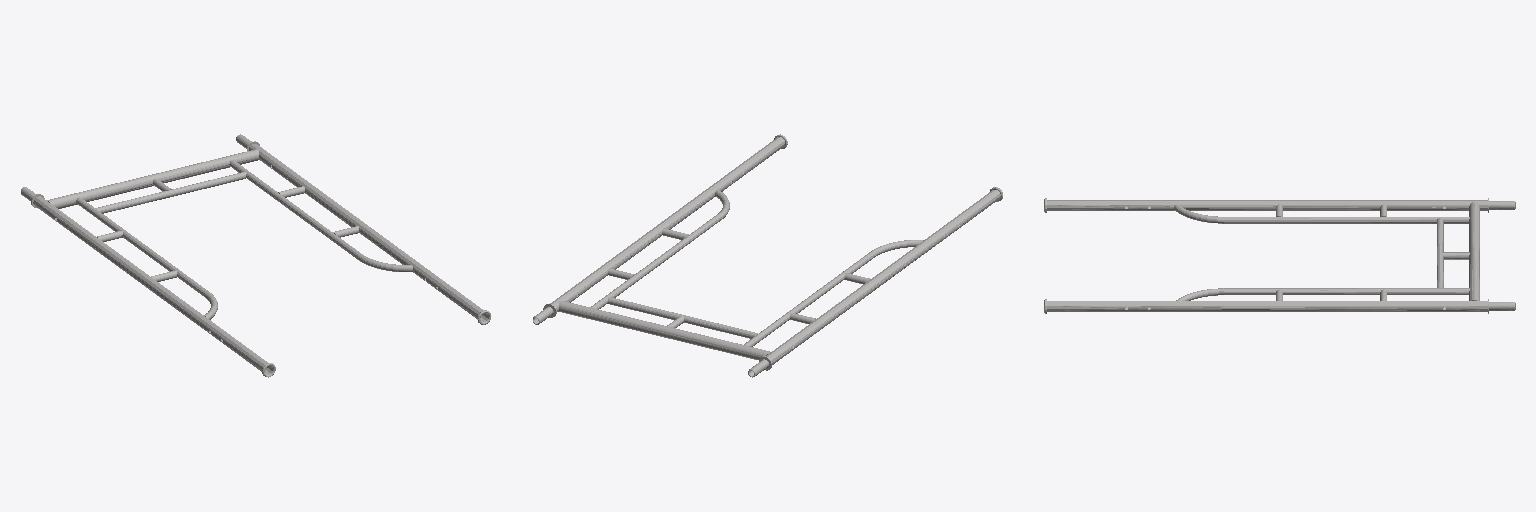
robot.urdf — H-frame_scaffolding_urdf_mesh:
<?xml version="1.0" encoding="utf-8"?>
<!-- This URDF was automatically created by SolidWorks to URDF Exporter! Originally created by Stephen Brawner (brawner@gmail.com) 
     Commit Version: 1.6.0-4-g7f85cfe  Build Version: 1.6.7995.38578
     For more information, please see http://wiki.ros.org/sw_urdf_exporter -->
<robot name="H-frame_scaffolding_urdf_mesh">
    <!--    <mujoco>-->
    <!--        <compiler-->
    <!--        meshdir="meshes/"-->
    <!--        discardvisual="false" />-->
    <!--  </mujoco>-->

<!--    <link name="left_hand">-->
<!--        <inertial>-->
<!--            <origin xyz="0 0 0" rpy="0 0 0"/>-->
<!--            <mass value="0.01"/>-->
<!--            <inertia-->
<!--                        ixx="4.000000E-09"-->
<!--                        ixy="0.000000E+00"-->
<!--                        ixz="0.000000E+00"-->
<!--                        iyy="4.000000E-09"-->
<!--                        iyz="0.000000E+00"-->
<!--                        izz="4.000000E-09"/>-->
<!--        </inertial>-->
<!--        <visual>-->
<!--            <origin xyz="0 0 0" rpy="0 0 0"/>-->

<!--            <geometry>-->
<!--              <sphere radius="0.001"/>-->
<!--            </geometry>-->

<!--            <material name="red">-->
<!--              <color rgba="1.0 0.0 0.0 1.0"/>-->
<!--            </material>-->
<!--      </visual>-->
<!--    </link>-->

<!--    <link name="right_hand">-->
<!--        <inertial>-->
<!--            <origin xyz="0 0 0" rpy="0 0 0"/>-->
<!--            <mass value="0.01"/>-->
<!--            <inertia-->
<!--                        ixx="4.000000E-09"-->
<!--                        ixy="0.000000E+00"-->
<!--                        ixz="0.000000E+00"-->
<!--                        iyy="4.000000E-09"-->
<!--                        iyz="0.000000E+00"-->
<!--                        izz="4.000000E-09"/>-->
<!--        </inertial>-->
<!--        <visual>-->
<!--            <origin xyz="0 0 0" rpy="0 0 0"/>-->

<!--            <geometry>-->
<!--              <sphere radius="0.001"/>-->
<!--            </geometry>-->

<!--            <material name="blue">-->
<!--              <color rgba="0.0 0.0 1.0 1.0"/>-->
<!--            </material>-->
<!--      </visual>-->
<!--    </link>-->

<!--    <joint name="left_hand_contact" type="revolute">-->
<!--        <limit lower="0" upper="0." effort="100" velocity="1.0"/>-->
<!--        <origin xyz="-0.325 -0.43 0" rpy="0 0 0"/>-->
<!--&lt;!&ndash;        <origin xyz="-0.325 -0.75 0" rpy="0 0 0"/>&ndash;&gt;-->
<!--&lt;!&ndash;        <origin xyz="-0.325 -0.73 0" rpy="0 0 0"/>&ndash;&gt;-->
<!--        <parent-->
<!--                link="base_link"/>-->
<!--        <child-->
<!--                link="left_hand"/>-->
<!--        <axis-->
<!--                xyz="0 0 1"/>-->
<!--    </joint>-->

<!--    <joint name="right_hand_contact" type="revolute">-->
<!--        <limit lower="0" upper="0." effort="100" velocity="1.0"/>-->
<!--        <origin xyz="0.325 -0.43 0" rpy="0 0 0"/>-->
<!--&lt;!&ndash;        <origin xyz="0.325 -0.75 0" rpy="0 0 0"/>&ndash;&gt;-->
<!--&lt;!&ndash;        <origin xyz="0.325 -0.73 0" rpy="0 0 0"/>&ndash;&gt;-->
<!--        <parent-->
<!--                link="base_link"/>-->
<!--        <child-->
<!--                link="right_hand"/>-->
<!--        <axis-->
<!--                xyz="0 0 1"/>-->
<!--    </joint>-->

    <link name="base_link">
        <inertial>
            <origin xyz="0 -0.425 0" rpy="0 0 0"/>
<!--            <origin xyz="5.57980384847987E-07 -0.95 2.85008639621007E-07" rpy="0 0 0"/>-->
<!--            <mass value="1.60235626896938"/>-->

<!--            <mass value="0.1"/>-->
<!--            <inertia-->
<!--                    ixx="0.23"-->
<!--                    ixy="1.45539870892311E-08"-->
<!--                    ixz="2.64829864005487E-09"-->
<!--                    iyy="0.19"-->
<!--                    iyz="-3.01571014350034E-09"-->
<!--                    izz="0.422"/>-->

<!--        <mass value="2.5"/>-->
<!--        <inertia-->
<!--                ixx="0.580"-->
<!--                ixy="0.0"-->
<!--                ixz="0.0"-->
<!--                iyy="0.475"-->
<!--                iyz="0.0"-->
<!--                izz="1.055"/>-->

<!--            <mass value="3.0"/>-->
<!--        <inertia-->
<!--                ixx="0.696"-->
<!--                ixy="0.0"-->
<!--                ixz="0.0"-->
<!--                iyy="0.570"-->
<!--                iyz="0.0"-->
<!--                izz="1.266"/>-->

<!--            <mass value="4.0"/>-->
<!--        <inertia-->
<!--                ixx="0.928"-->
<!--                ixy="0.0"-->
<!--                ixz="0.0"-->
<!--                iyy="0.760"-->
<!--                iyz="0.0"-->
<!--                izz="1.688"/>-->

<!--    <mass value="5.0"/>-->
<!--        <inertia-->
<!--                ixx="1.160"-->
<!--                ixy="0.0"-->
<!--                ixz="0.0"-->
<!--                iyy="0.950"-->
<!--                iyz="0.0"-->
<!--                izz="2.110"/>-->

<!--            <mass value="7.5"/>-->
<!--        <inertia-->
<!--                ixx="1.740"-->
<!--                ixy="0.0"-->
<!--                ixz="0.0"-->
<!--                iyy="1.425"-->
<!--                iyz="0.0"-->
<!--                izz="3.165"/>-->

<!--            <mass value="10.0"/>-->
<!--        <inertia-->
<!--                ixx="2.320"-->
<!--                ixy="0.0"-->
<!--                ixz="0.0"-->
<!--                iyy="1.900"-->
<!--                iyz="0.0"-->
<!--                izz="4.220"/>-->

            <mass value="15.0"/>
            <inertia
                    ixx="3.48"
                    ixy="0.0"
                    ixz="0.0"
                    iyy="2.85"
                    iyz="0.0"
                    izz="6.33"/>

                </inertial>

        <visual>
            <origin xyz="0 0 0" rpy="0 0 0"/>
            <geometry>
                <mesh
                        filename="meshes/h_frame_base_link.STL"/>
            </geometry>
            <material name="">
                <color rgba="0.745098039215686 0.737254901960784 0.729411764705882 1"/>
            </material>
        </visual>

<!--            <collision>-->
<!--            <origin xyz="0 0 0" rpy="0 0 0"/>-->
<!--            <geometry>-->
<!--                <mesh filename="meshes/h_frame_base_link.STL"/>-->
<!--            </geometry>-->
<!--        </collision>-->

        <!-- inner column-->
        <collision>
            <origin xyz="0.325 -0.4 0" rpy="-1.57 0 0"/>
            <geometry>
                <cylinder radius="0.015" length="1"/>
<!--                <cylinder radius="0.02" length="1"/>-->
            </geometry>
        </collision>
        <collision>
            <origin xyz="-0.325 -0.4 0" rpy="-1.57 0 0"/>
            <geometry>
                <cylinder radius="0.015" length="1"/>
<!--                <cylinder radius="0.02" length="1"/>-->
            </geometry>
        </collision>

        <!-- outer column-->
        <collision>
            <origin xyz="0.455 -0.59 0" rpy="-1.57 0 0"/>
            <geometry>
                <cylinder radius="0.02" length="1.8"/>
            </geometry>
        </collision>
        <collision>
            <origin xyz="-0.455 -0.59 0" rpy="-1.57 0 0"/>
            <geometry>
                <cylinder radius="0.02" length="1.8"/>
            </geometry>
        </collision>

        <!-- beam -->
        <collision>
            <origin xyz="0.39 -0.615 0" rpy="0 -1.57 0"/>
            <geometry>
                <cylinder radius="0.015" length="0.12"/>
            </geometry>
        </collision>
        <collision>
            <origin xyz="-0.39 -0.615 0" rpy="0 -1.57 0"/>
            <geometry>
                <cylinder radius="0.015" length="0.12"/>
            </geometry>
        </collision>

        <collision>
            <origin xyz="0.39 -0.215 0" rpy="0 -1.57 0"/>
            <geometry>
                <cylinder radius="0.015" length="0.12"/>
            </geometry>
        </collision>

        <collision>
            <origin xyz="-0.39 -0.215 0" rpy="0 -1.57 0"/>
            <geometry>
                <cylinder radius="0.015" length="0.12"/>
            </geometry>
        </collision>

        <!-- bases for standing -->
        <collision>
            <origin xyz="0.46 -1.515 0"/>
            <geometry>
                <box size="0.015 0.01 0.015"/>
            </geometry>
        </collision>
        <collision>
            <origin xyz="-0.46 -1.515 0"/>
            <geometry>
                <box size="0.015 0.01 0.015"/>
            </geometry>
        </collision>
    </link>

</robot>

--- Render facts (derived) ---
Views: 3 orthographic renders of the robot side by side, from view 1: azimuth 30°, elevation 25°; view 2: azimuth 150°, elevation 25°; view 3: azimuth 270°, elevation 25°.
Robot: H-frame_scaffolding_urdf_mesh — 1 links, 0 joints (none); root link base_link; default pose: all joints at 0.
Visible links, largest first — view 1: base_link; view 2: base_link; view 3: base_link.
Boxes of the visible links, x1,y1,x2,y2 form: base_link: (21, 134, 490, 377); base_link: (533, 134, 1002, 377); base_link: (1044, 198, 1515, 313).
Bounding box of the posed robot: 0.9722 × 1.8 × 0.0582 m (x, y, z).
Meshes: 1 distinct files referenced, 1 mesh visuals loaded (1 binary STL).
